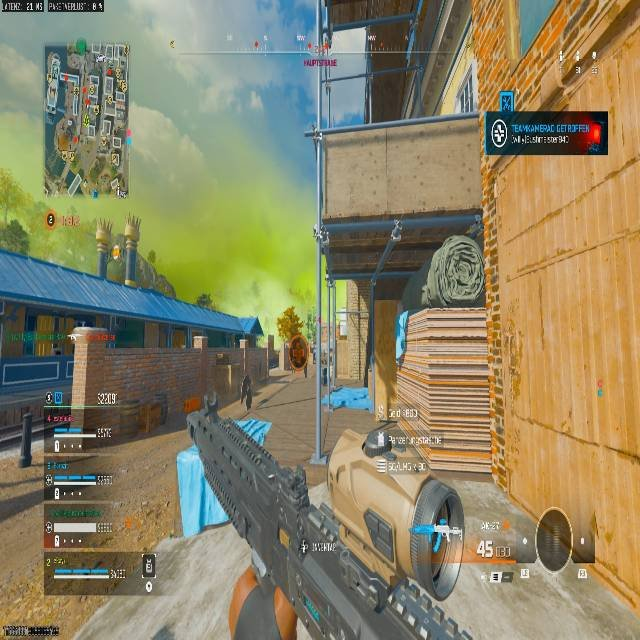player: (285, 328, 309, 374), (315, 224, 329, 255)
